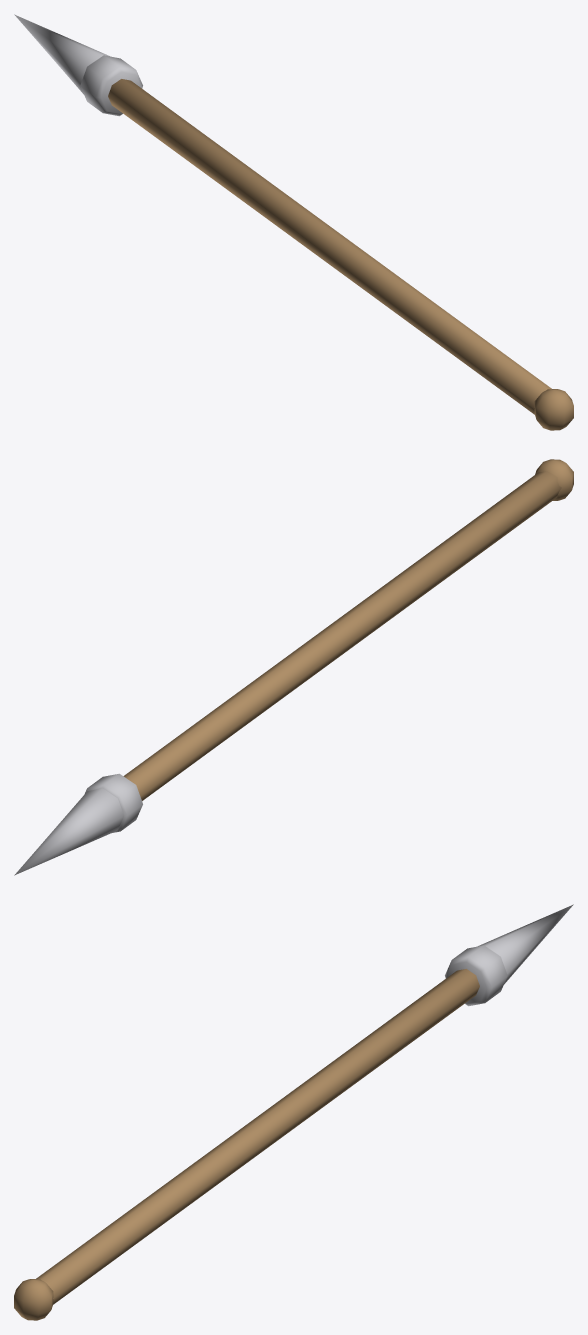
The model's file is weapons_spear.glb.
3 views of the same model, one above another, from view 1: azimuth 30°, elevation 25°; view 2: azimuth 150°, elevation 25°; view 3: azimuth 330°, elevation 25° (orthographic).
Parts seen in each view (by area): view 1: weapons_spear; view 2: weapons_spear; view 3: weapons_spear.
Boxes of the visible parts, x1=… form: weapons_spear: x1=14, y1=14, x2=573, y2=430; weapons_spear: x1=14, y1=459, x2=573, y2=875; weapons_spear: x1=14, y1=904, x2=573, y2=1320.
Bounding box in the file's own units: 0.056 × 0.056 × 1.13.
